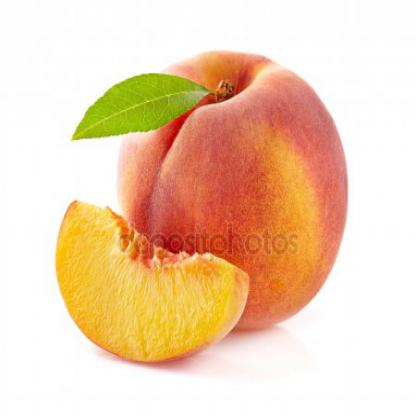peach leaf: (57, 72, 219, 148)
